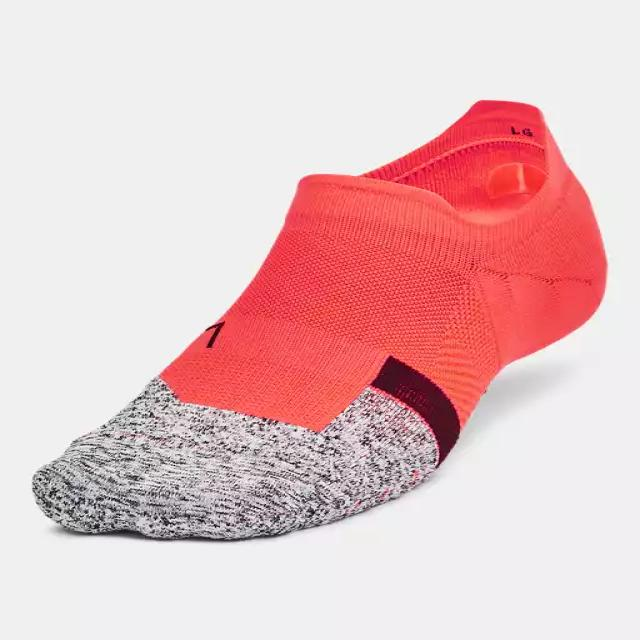sock: (30, 98, 608, 541)
